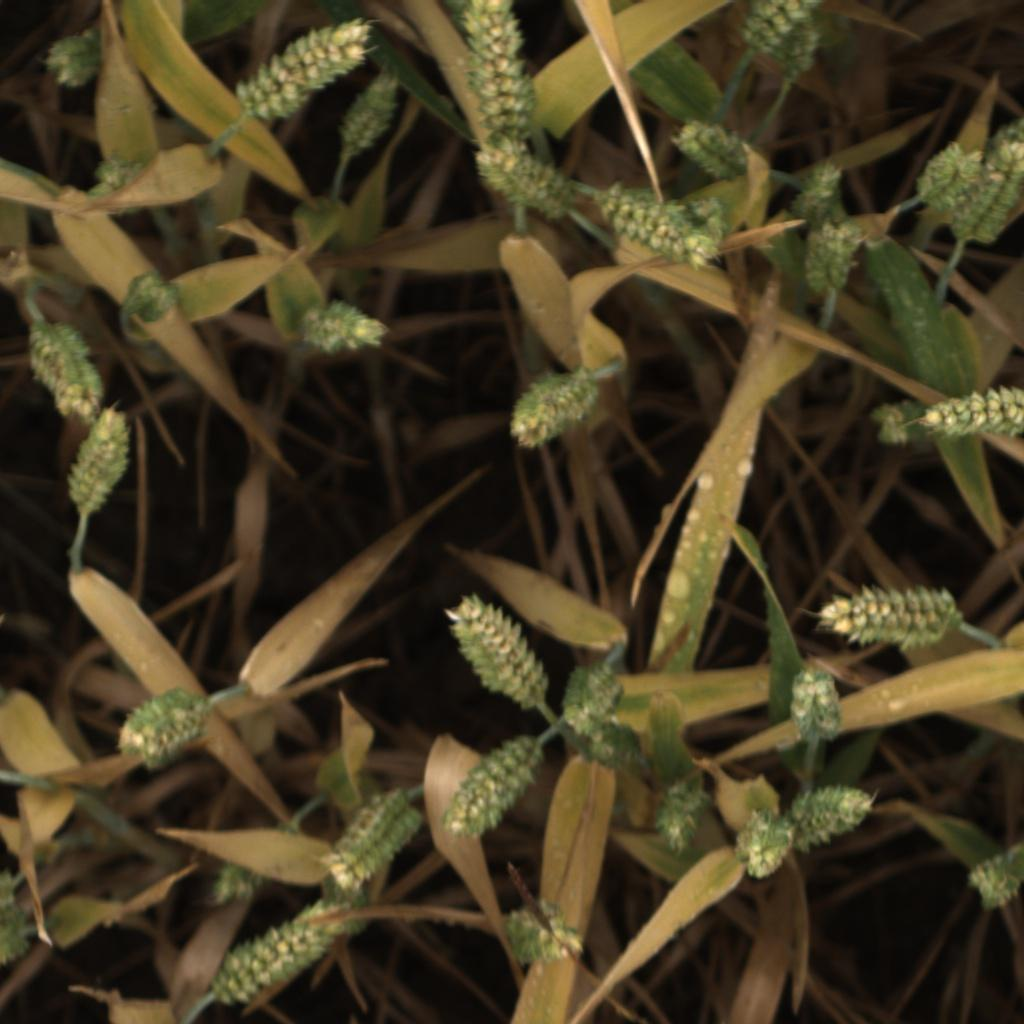0-0: (227, 16, 378, 132), (215, 900, 337, 1013), (441, 591, 551, 712), (454, 0, 536, 161), (812, 580, 964, 658), (437, 734, 545, 838), (323, 787, 422, 898), (591, 185, 710, 273), (950, 113, 1023, 256), (61, 401, 142, 527), (504, 362, 599, 458), (470, 139, 577, 223), (24, 313, 107, 421), (116, 686, 210, 772), (796, 779, 883, 860), (914, 381, 1024, 445), (497, 897, 587, 971), (797, 219, 874, 303), (332, 70, 404, 159), (664, 117, 752, 189), (299, 294, 390, 362), (78, 149, 158, 221), (914, 143, 993, 211), (788, 662, 852, 745), (735, 1, 813, 69), (662, 190, 732, 263), (38, 29, 108, 99), (788, 154, 849, 227), (118, 266, 181, 336), (733, 807, 795, 878), (561, 668, 626, 734), (866, 391, 937, 449), (962, 850, 1024, 915), (657, 778, 710, 854), (319, 881, 378, 942), (586, 720, 643, 776), (202, 857, 268, 905), (1, 910, 45, 967), (0, 869, 22, 914)
